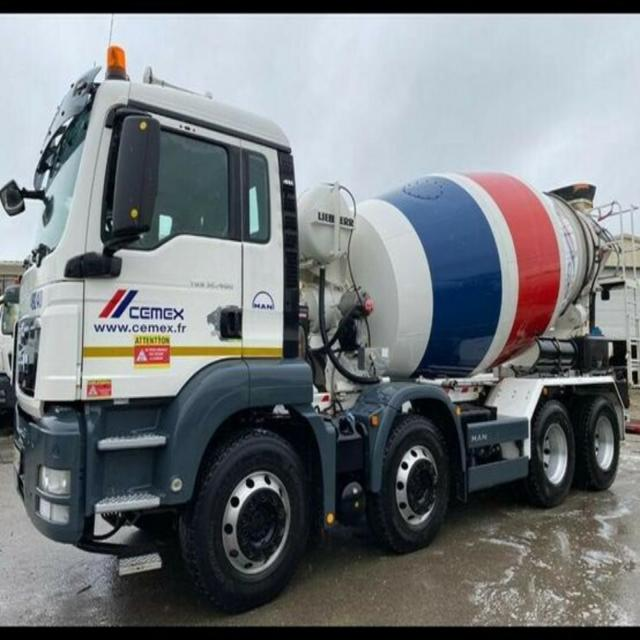Mixer Truck: (13, 68, 638, 610)
